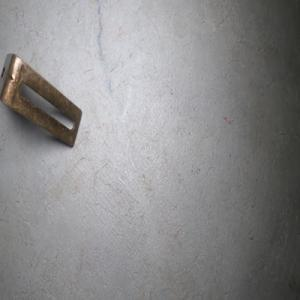MetalPart: (0, 50, 82, 149)
